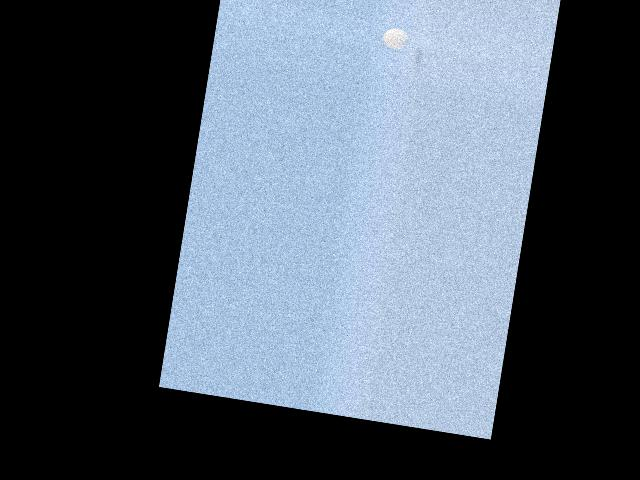egg: (381, 26, 410, 50)
